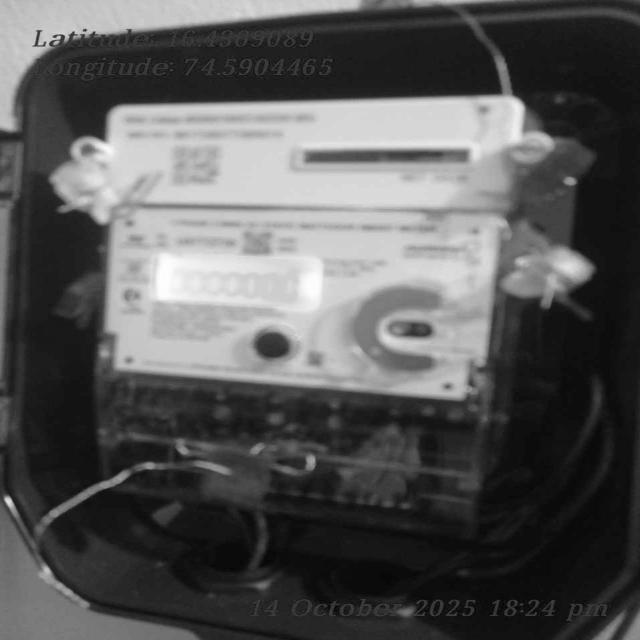meter: (105, 97, 523, 400)
